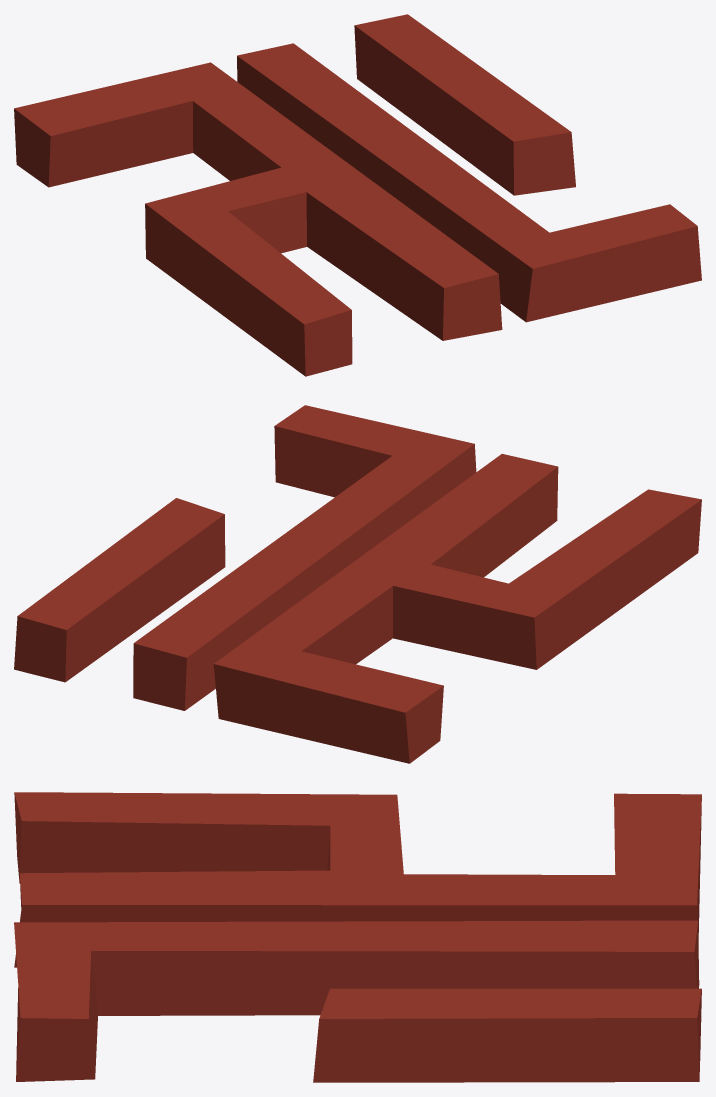
The model's file is worlds_SM_Prop_Alien_Letter_15.gltf.
3 renders of one model, top to bottom at view 1: azimuth 30°, elevation 25°; view 2: azimuth 150°, elevation 25°; view 3: azimuth 270°, elevation 25°, orthographic. The views are drawn at different scales.
Visible parts, largest first — view 1: SM_Prop_Alien_Letter_15; view 2: SM_Prop_Alien_Letter_15; view 3: SM_Prop_Alien_Letter_15.
Boxes of the visible parts, x1,y1,x2,y2 form: SM_Prop_Alien_Letter_15: [14, 14, 701, 376]; SM_Prop_Alien_Letter_15: [14, 405, 701, 763]; SM_Prop_Alien_Letter_15: [14, 792, 701, 1082].
Bounding box in the file's own units: 0.273 × 0.035 × 0.3481.
1 material, 1 textured.
